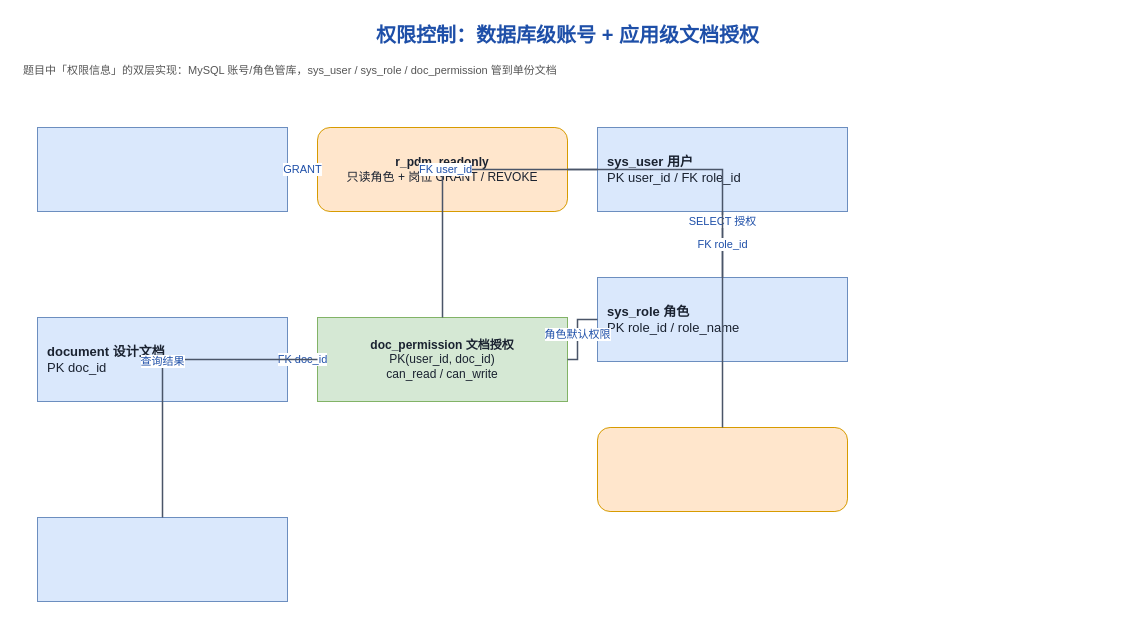
This 1124x619 diagram has some shape labels left out. The shapes that lost their labels are listed below. From the top down, each one's centre as x and y in pixels, then its label:
(x=162, y=169): MySQL 账号 pdm_admin / pdm_designer pdm_purchase / pdm_qc
(x=722, y=469): 视图 v_serial_trace 等 按岗位只暴露必要字段
(x=162, y=559): 验证：SHOW GRANTS / 以 wangwu 登录后查询文档权限，应能读设计说明书与设计图、不能写、不能读 CAD 文件
